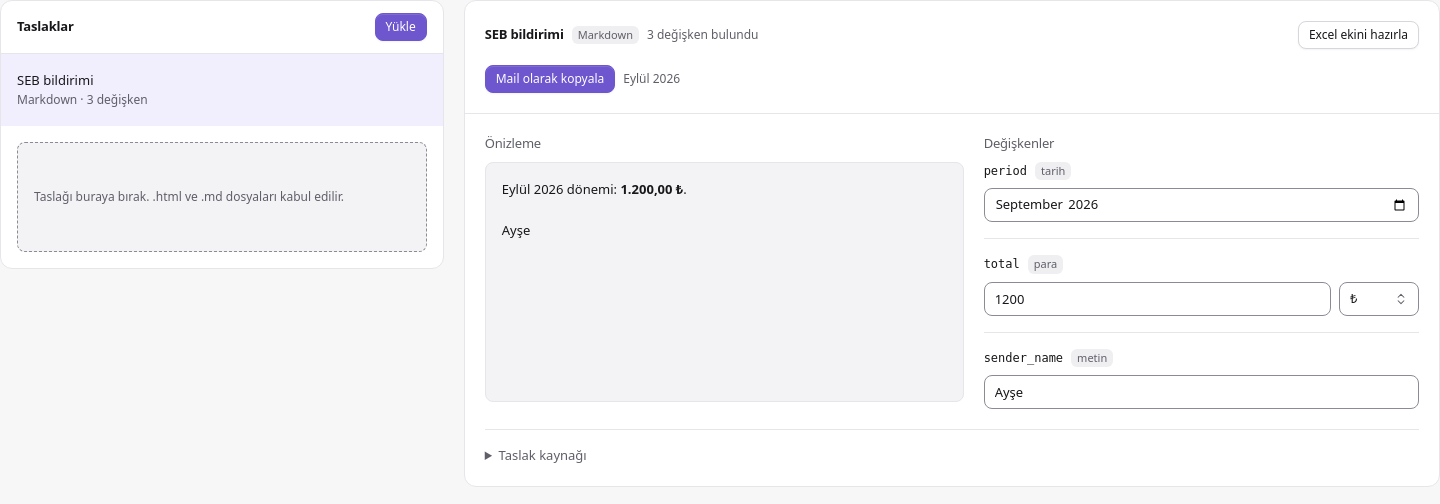
Test case: prefills the SEB portion of a claim and retains manual edits when the claim refreshes
The width and height of the screenshot is (1440, 504).
Expected: the field labelled "period tarih" holds "2026-09", top-left (984, 188), bottom-right (1419, 222)
Expected: the text "1.200,00 ₺" is shown, top-left (620, 180), bottom-right (683, 198)
Replace the text in the field labelled "total para" with "1400" at x=1157, y=298, box top-left (984, 282), bottom-right (1331, 316)
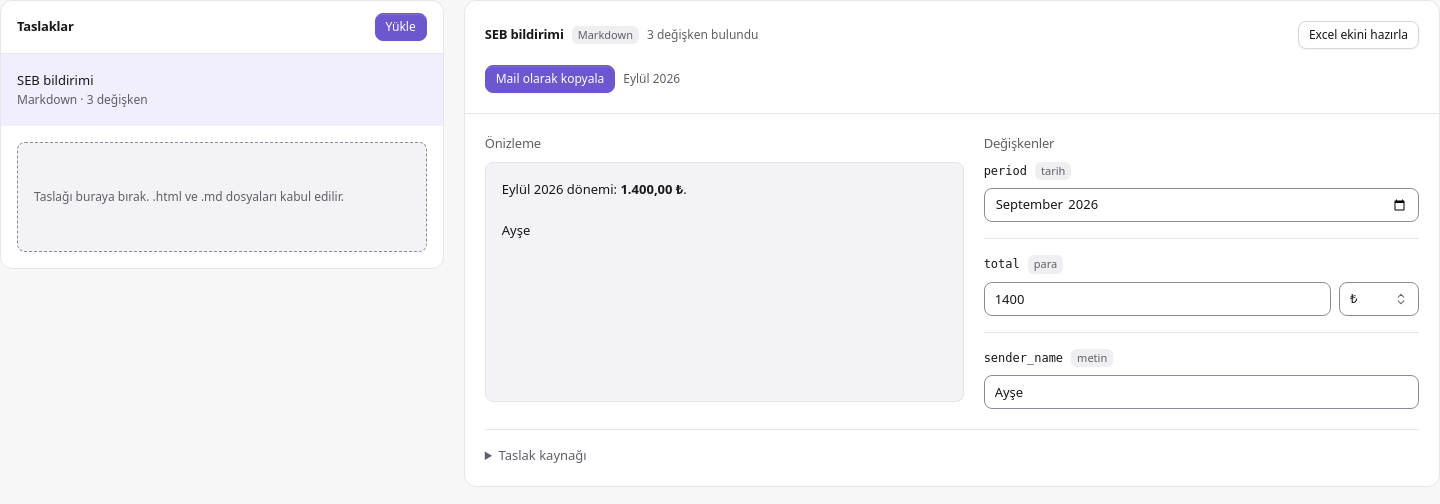
Now the text "1.400,00 ₺" is shown, box top-left (620, 180), bottom-right (683, 198)
